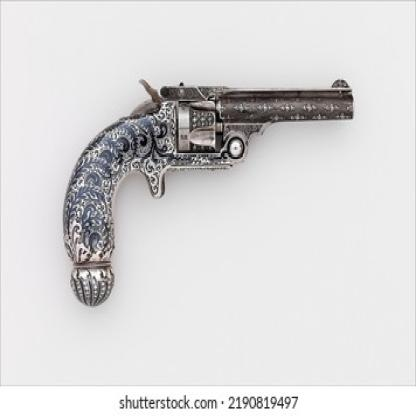handgun: (65, 81, 356, 307)
